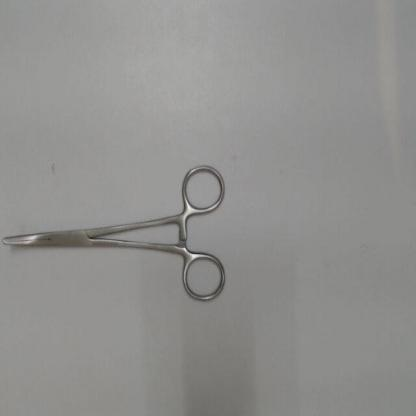Crile Artery Forceps: (0, 158, 235, 314)
